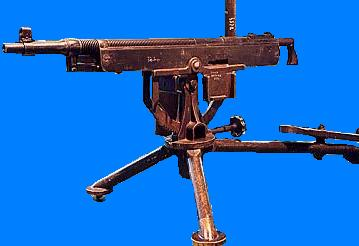rifle: (2, 8, 355, 242)
